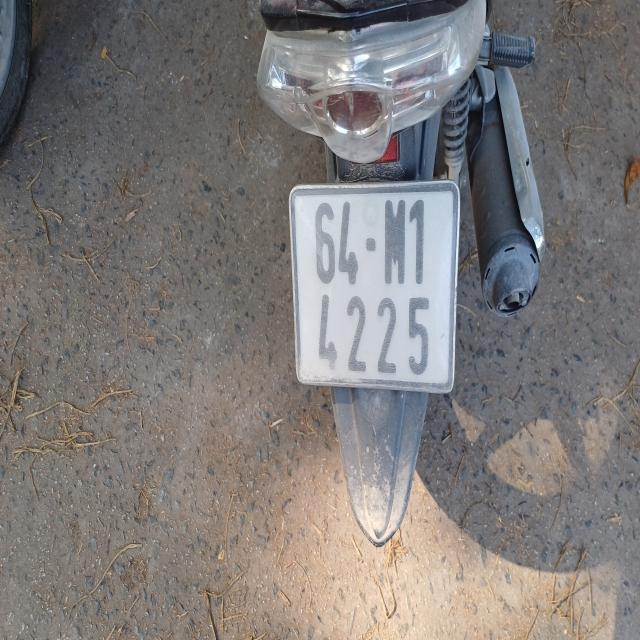1: (409, 198, 425, 283)
2: (345, 292, 369, 373), (376, 297, 398, 373)
4: (336, 200, 359, 289), (317, 291, 338, 370)
5: (408, 292, 430, 375)
6: (313, 200, 337, 286)
M: (382, 201, 411, 286)
